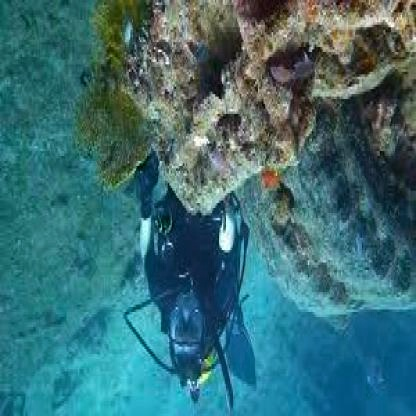tire: (284, 104, 416, 339)
